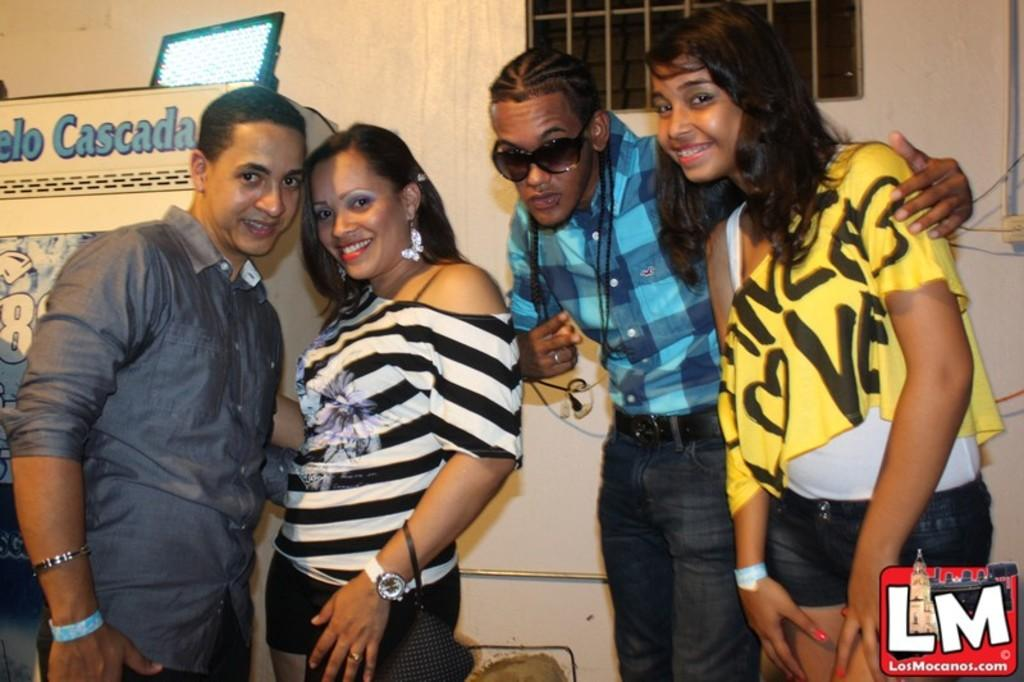Sem Máscara: (203, 121, 304, 256), (487, 96, 592, 222), (303, 155, 405, 279), (646, 53, 738, 180)
